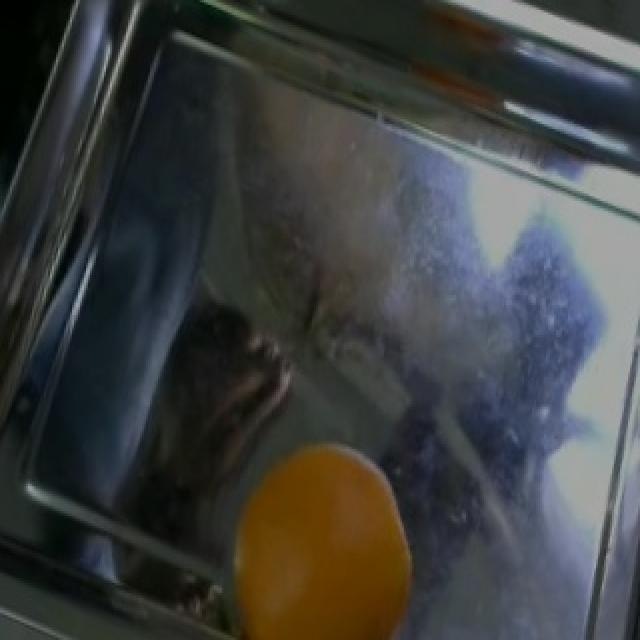Fruit: (208, 424, 418, 640)
